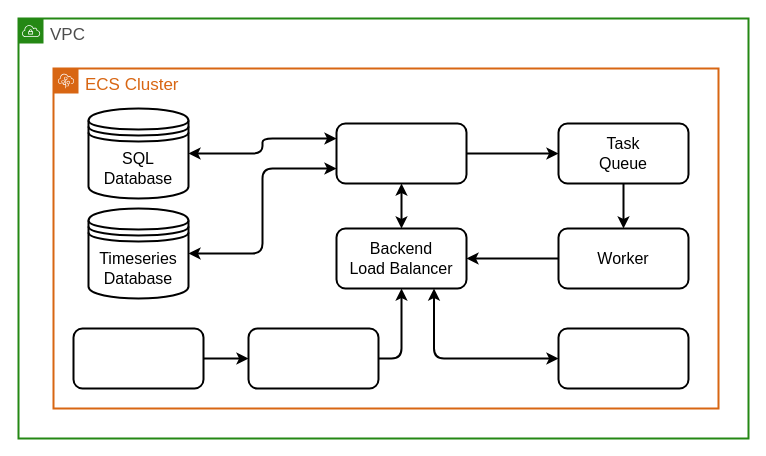
The diagram is 766 pixels wide and 456 high, and some of its shapes have lost their labels. The box of each missing label's shape, as (x1, y1, x2, y2) in pixels:
Backend API: (335, 122, 467, 184)
Data Intake: (72, 327, 204, 389)
Data Intake Queue: (247, 327, 379, 389)
Data Visualization: (557, 327, 689, 389)
